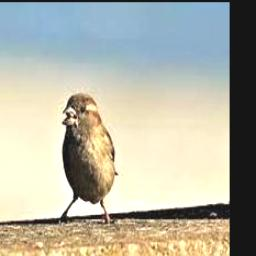Sparrow: (58, 92, 118, 223)
